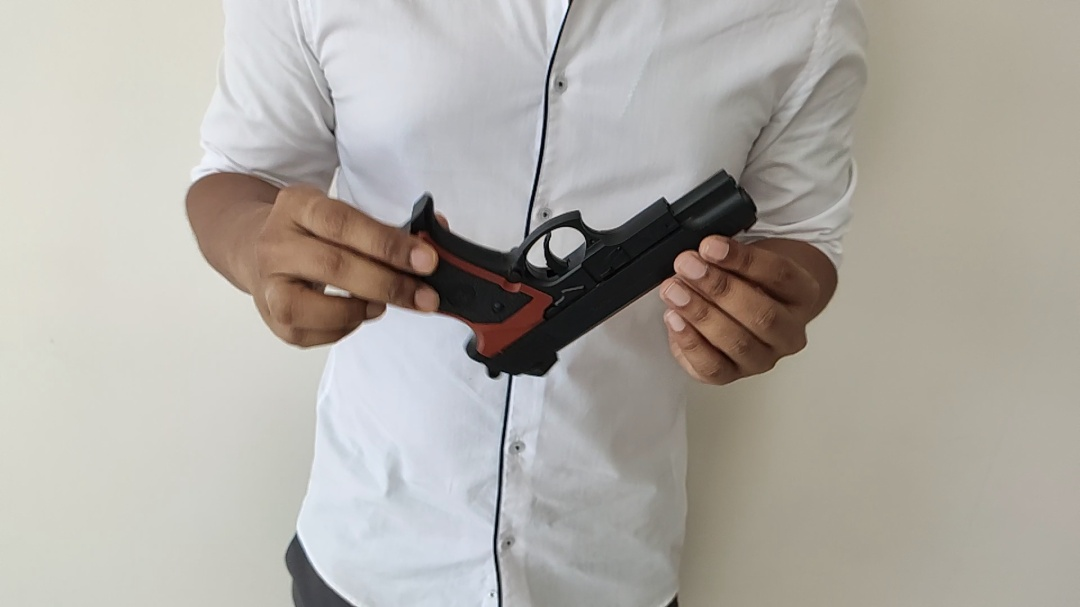gun: (256, 96, 563, 607)
